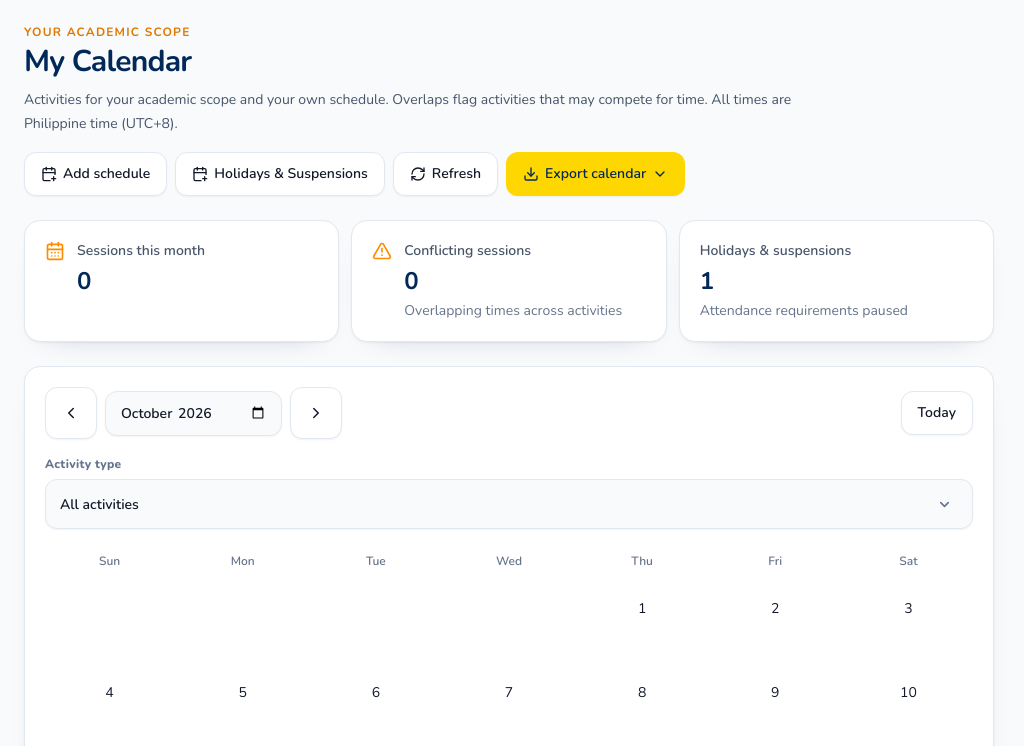
Calendar screens › shows suspended sessions and the reason without reporting a conflict
Click the button "Export calendar": (596, 174) [506, 152, 685, 196]
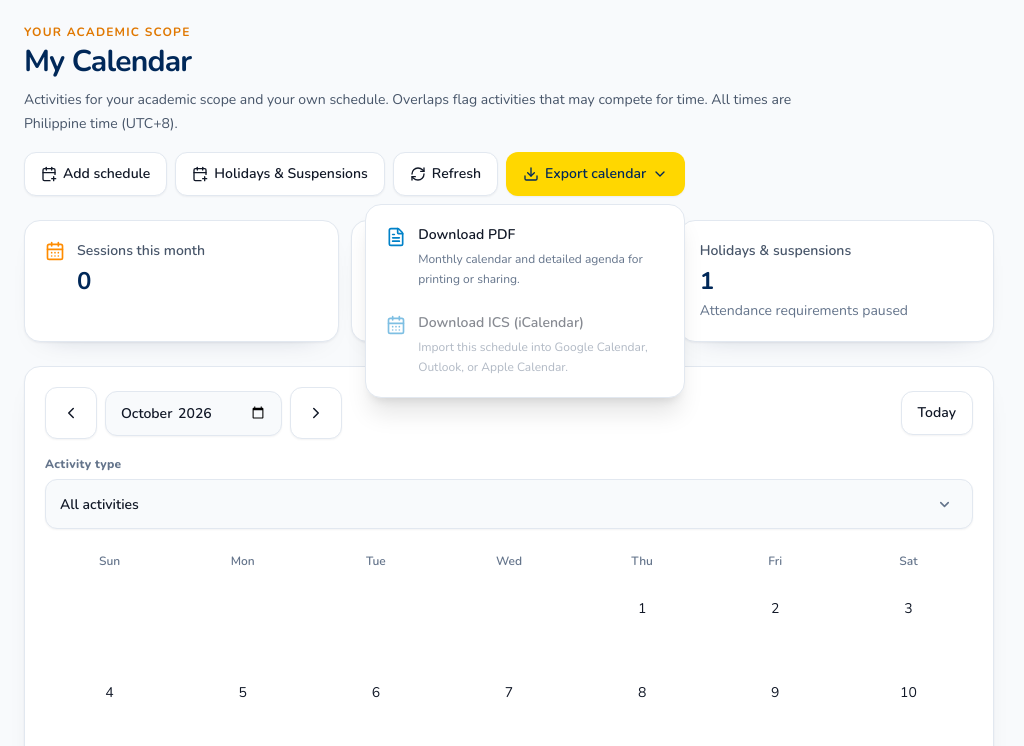
Expected: the button "Download PDF" is enabled, [374, 213, 676, 301]
Expected: the button "Download ICS" is disabled, [374, 301, 676, 389]
